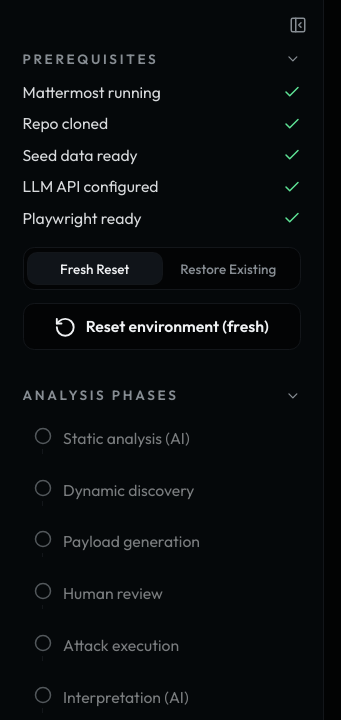
Scenario: Sidebar › collapses to a slim rail and back, without losing the run button permanently
Click the button named "collapse sidebar": (298, 25) [282, 9, 314, 40]
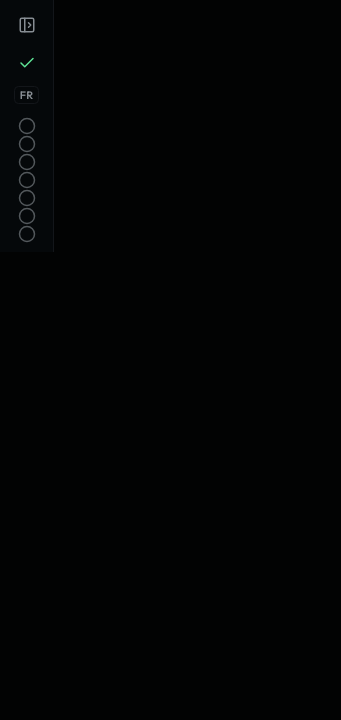
Expected: the button "ANALYSIS PHASES" is gone
Click the button named "expand sidebar": (27, 25) [11, 9, 42, 40]
(page scrolled)
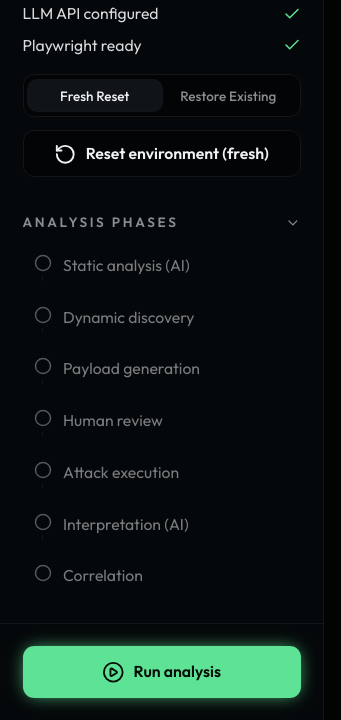
Expected: the button "Run analysis" is shown, [22, 646, 300, 698]
